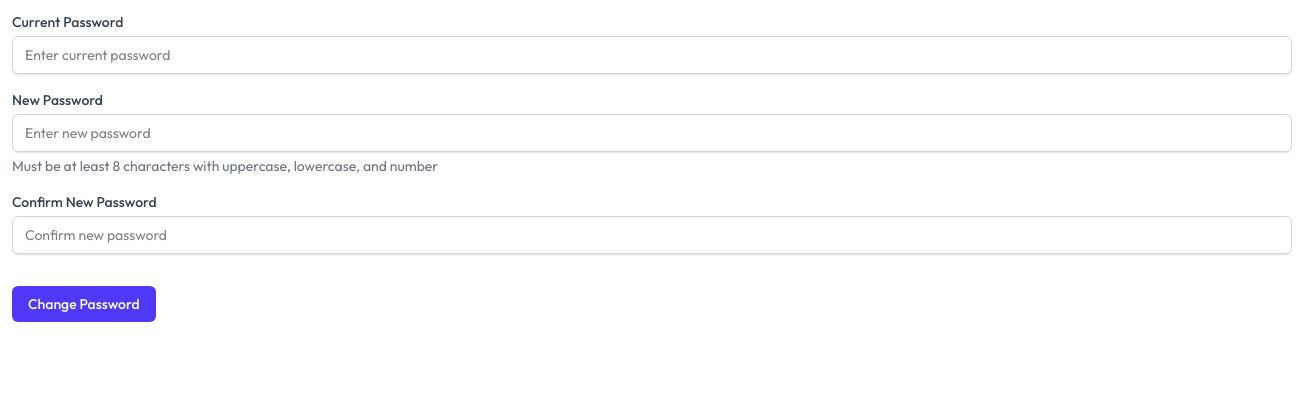
Test case: ChangePasswordForm › displays error message on change failure
The image size is (1304, 399).
Type "WrongPassword123" into the password field labelled "Current Password" at (652, 55), box [12, 36, 1292, 74]
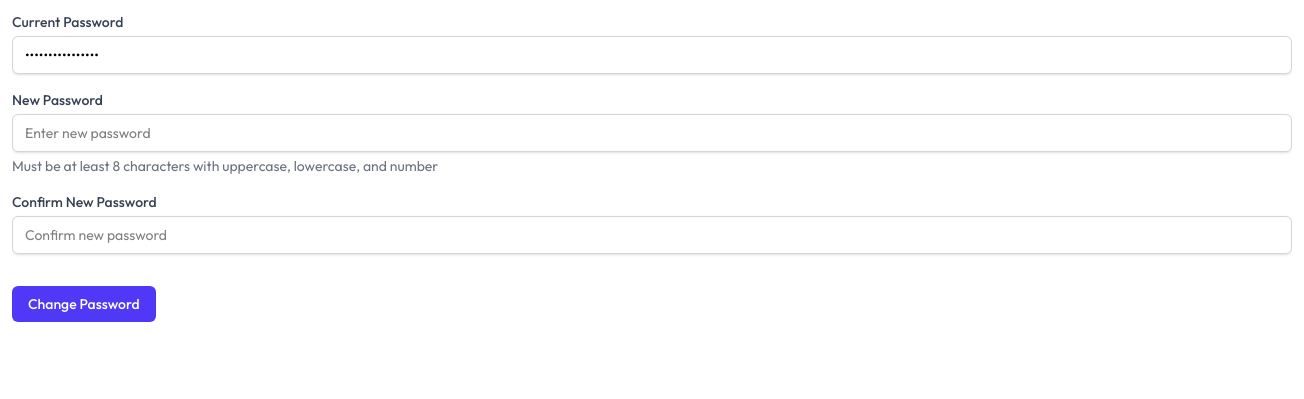
Type "NewPassword123" into the password field labelled "New Password" at (652, 133), box [12, 114, 1292, 152]
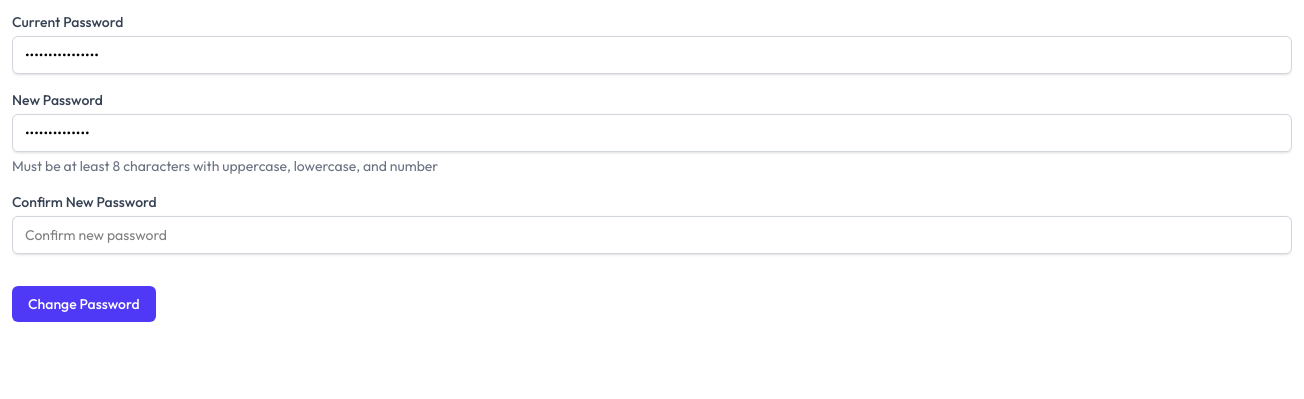
Type "NewPassword123" into the password field labelled "Confirm New Password" at (652, 235), box [12, 216, 1292, 254]
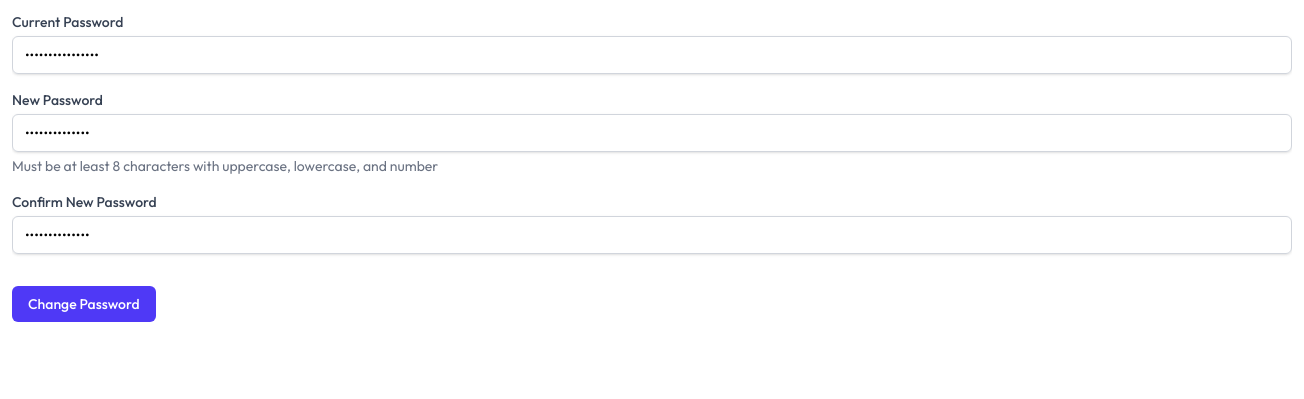
Click the button "Change Password" at (84, 304), box [12, 286, 156, 322]
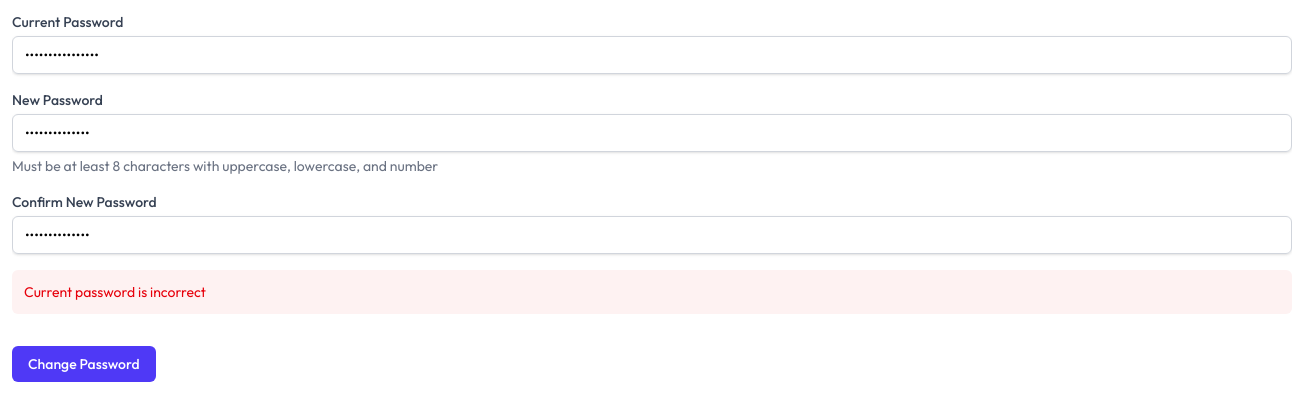
Expected: the text "Current password is incorrect" is shown, [12, 270, 1292, 314]
